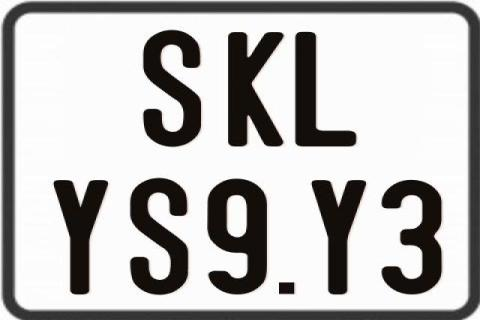0: (380, 178, 444, 294), (204, 176, 265, 294)
K: (226, 31, 287, 147)
L: (293, 30, 360, 146)
S: (128, 176, 192, 296), (140, 28, 201, 146)
Y: (53, 178, 113, 296), (312, 179, 366, 295)
